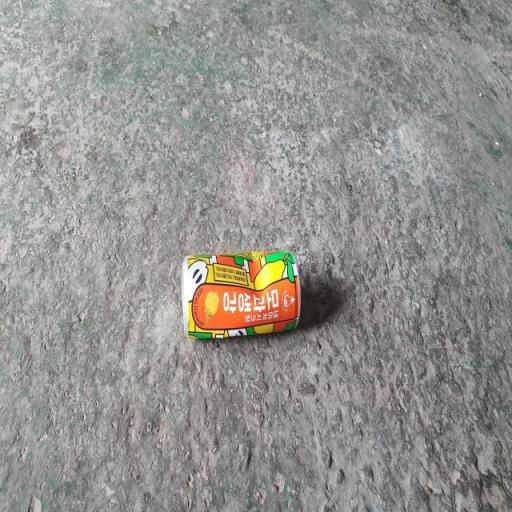metal: (164, 230, 312, 376)
